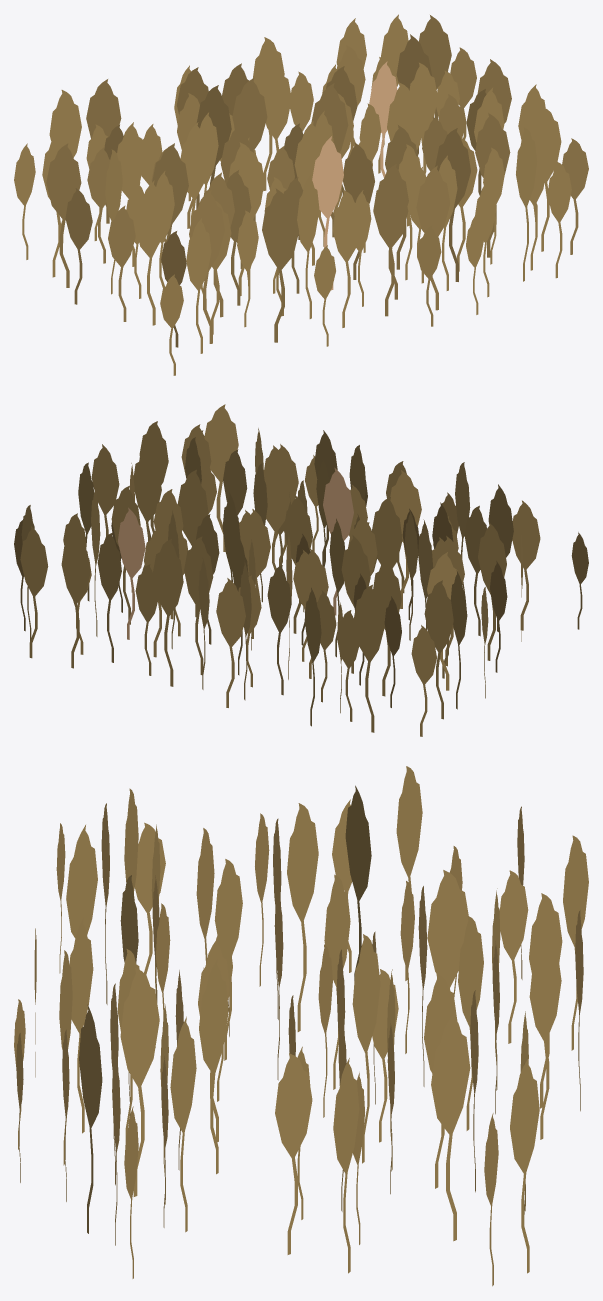
Rendered from ricefield02.fbx.
3 views of the same model, one above another, from view 1: azimuth 30°, elevation 25°; view 2: azimuth 150°, elevation 25°; view 3: azimuth 270°, elevation 25° (orthographic). The views are drawn at different scales.
Visible parts, largest first — view 1: rice_field02; view 2: rice_field02; view 3: rice_field02.
Part boxes in pixels (bbox=[...]): rice_field02: bbox=[14, 14, 588, 375]; rice_field02: bbox=[14, 404, 588, 736]; rice_field02: bbox=[14, 766, 588, 1286].
Bounding box in the file's own units: 307 × 225 × 98.71.
